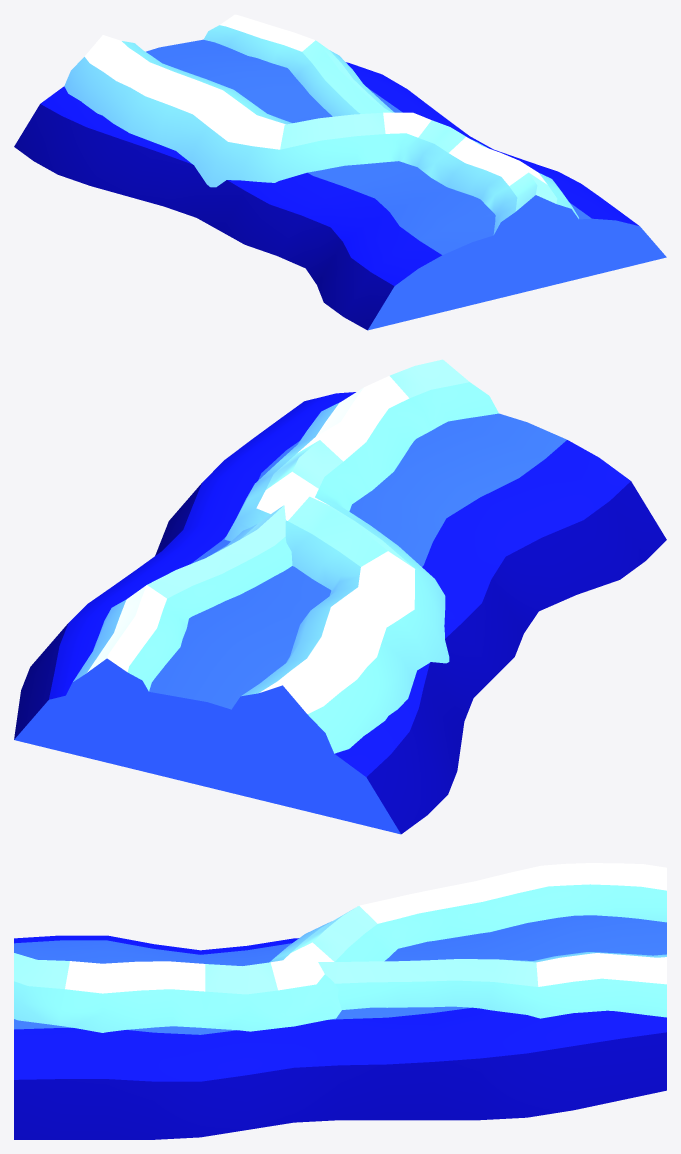
Rendered from shot_lightning_230.glb.
3 views of the same model, one above another, from view 1: azimuth 30°, elevation 25°; view 2: azimuth 150°, elevation 25°; view 3: azimuth 270°, elevation 25° (orthographic). The views are drawn at different scales.
Parts seen in each view (by area): view 1: shot_lightning_230_0, shot_lightning_230_1, shot_lightning_230_2; view 2: shot_lightning_230_0, shot_lightning_230_1, shot_lightning_230_2; view 3: shot_lightning_230_0, shot_lightning_230_1, shot_lightning_230_2.
Boxes of the visible parts, x1=… form: shot_lightning_230_0: x1=14, y1=39, x2=666, y2=330; shot_lightning_230_1: x1=64, y1=35, x2=581, y2=239; shot_lightning_230_2: x1=203, y1=14, x2=394, y2=116; shot_lightning_230_0: x1=14, y1=392, x2=666, y2=834; shot_lightning_230_1: x1=224, y1=359, x2=498, y2=760; shot_lightning_230_2: x1=66, y1=505, x2=292, y2=700; shot_lightning_230_0: x1=14, y1=915, x2=666, y2=1139; shot_lightning_230_1: x1=14, y1=863, x2=666, y2=1032; shot_lightning_230_2: x1=318, y1=952, x2=666, y2=1018.
Bounding box in the file's own units: 11 × 2.68 × 14.
